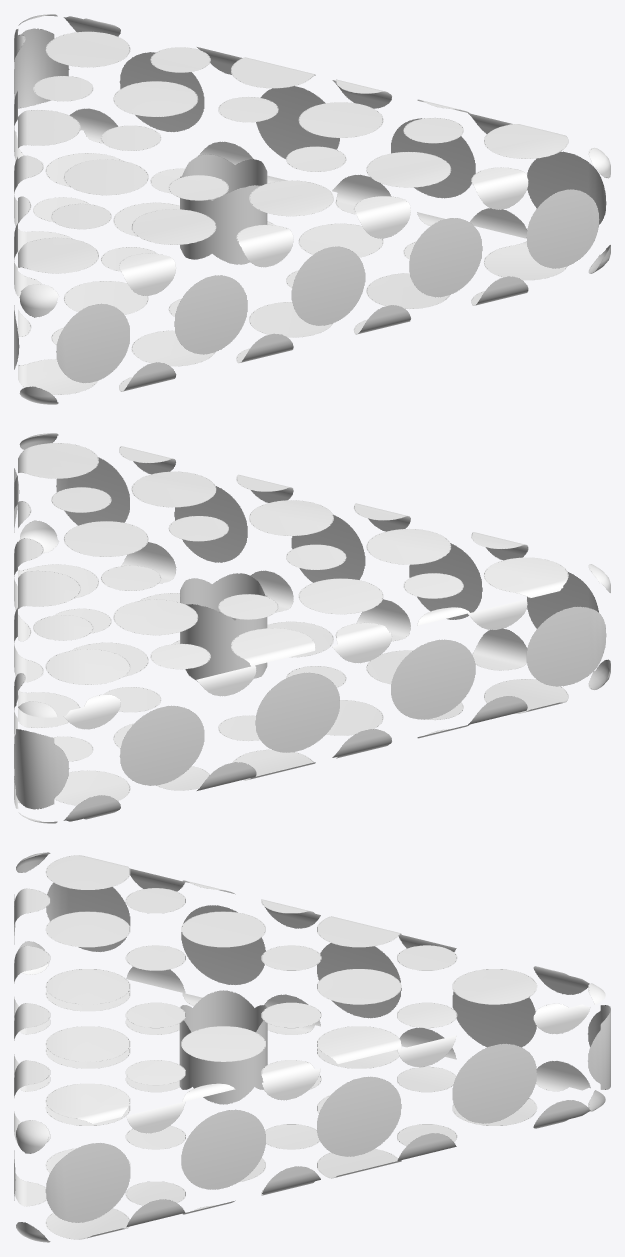
3 renders of one model, top to bottom at view 1: azimuth 30°, elevation 25°; view 2: azimuth 150°, elevation 25°; view 3: azimuth 270°, elevation 25°, orthographic.
Visible parts, largest first — view 1: OriginalTriangle.010; view 2: OriginalTriangle.010; view 3: OriginalTriangle.010.
Boxes of the visible parts, bbox=[...] form: OriginalTriangle.010: bbox=[14, 14, 610, 404]; OriginalTriangle.010: bbox=[14, 433, 610, 823]; OriginalTriangle.010: bbox=[14, 852, 610, 1242].
Size of the model in its own units: 361 by 71.37 by 318.
